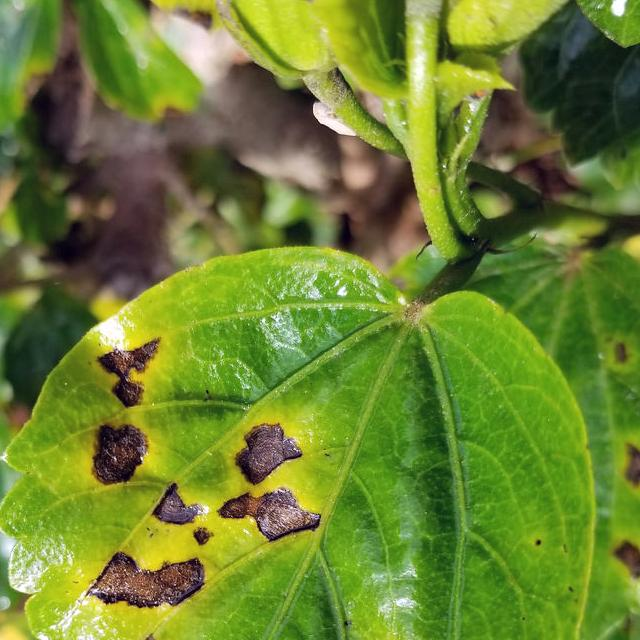Tomato leaf bacterial spot: (0, 245, 586, 640)
